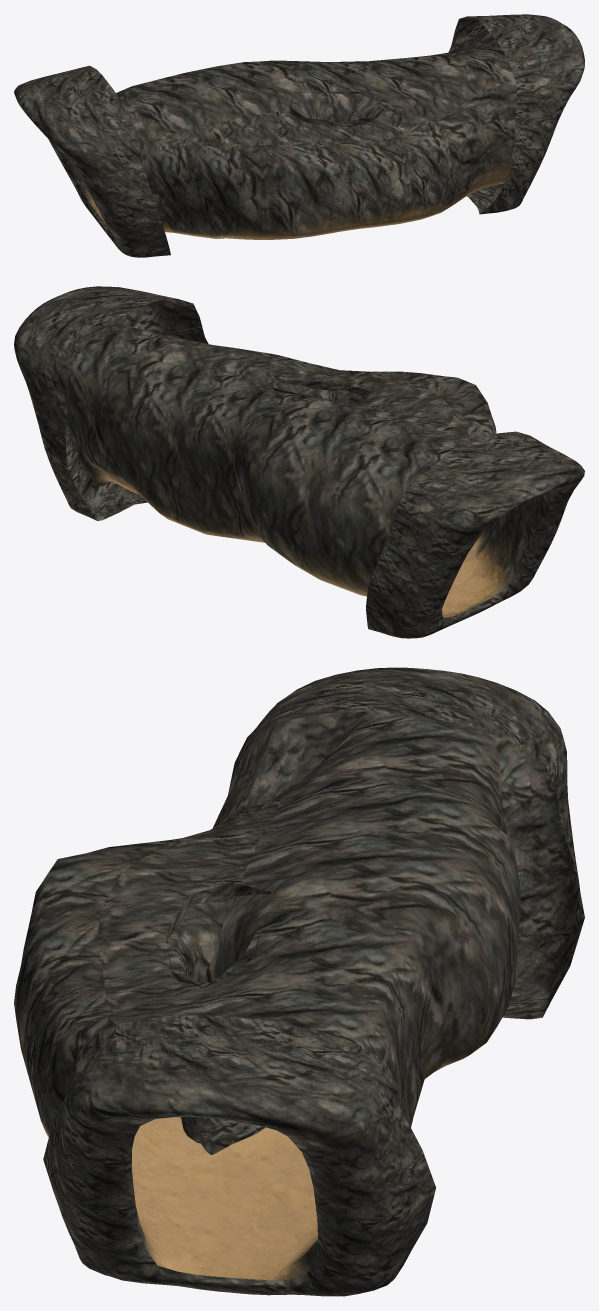
The model's file is CaveMeshShape.dae.
3 renders of one model, top to bottom at view 1: azimuth 30°, elevation 25°; view 2: azimuth 150°, elevation 25°; view 3: azimuth 270°, elevation 25°, orthographic. The views are drawn at different scales.
Parts seen in each view (by area): view 1: CaveMesh; view 2: CaveMesh; view 3: CaveMesh.
Boxes of the visible parts, bbox=[...] form: CaveMesh: bbox=[14, 14, 584, 257]; CaveMesh: bbox=[14, 286, 584, 638]; CaveMesh: bbox=[14, 667, 584, 1296].
Size of the model in its own units: 85.58 by 25.35 by 46.47.
